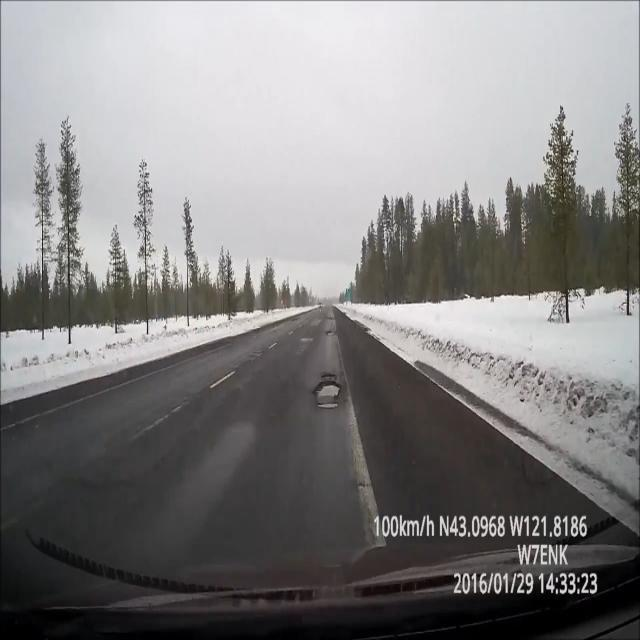Buraco: (312, 372, 344, 412), (323, 329, 339, 338)
